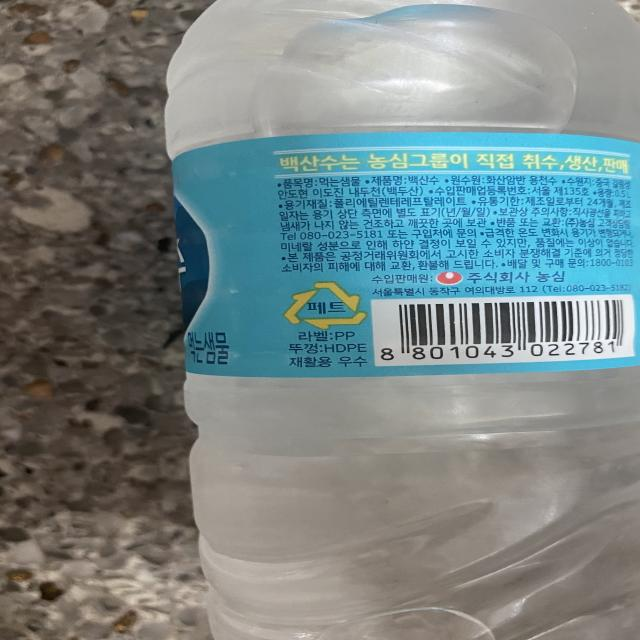PET: (282, 276, 370, 330)
